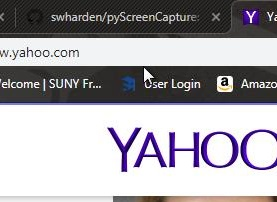cursor: (140, 64, 156, 86)
